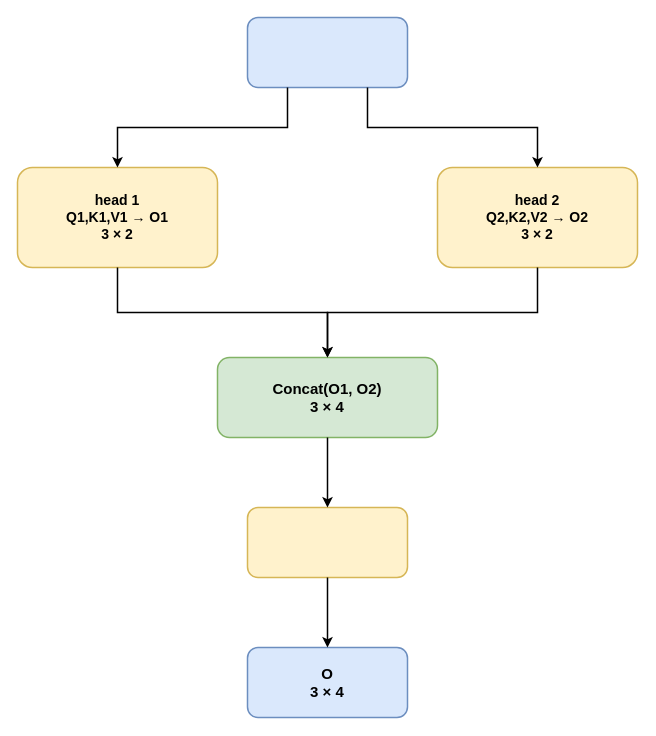
Some shapes in this 656 by 736 pixel diagram are drawn without their labels. Here are the shapes that lost their labels. From the top down, the box of each, then its label:
(246, 16, 408, 88): X 3 × 4
(246, 506, 408, 578): W_O 4 × 4
